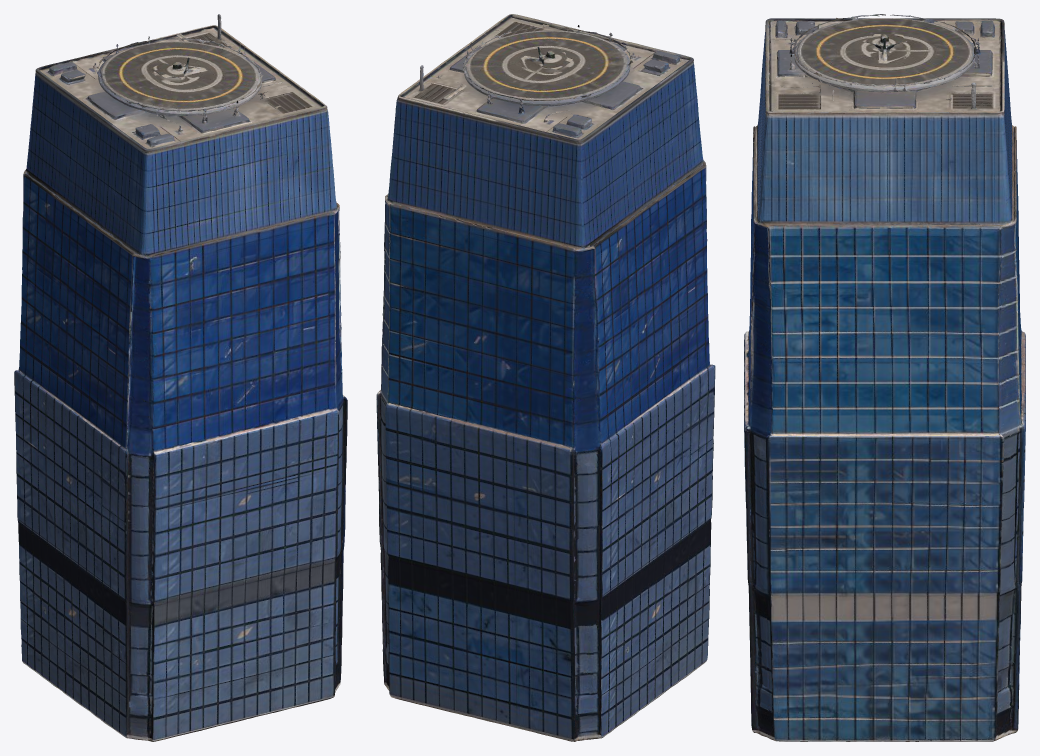
File: skyscraper.glb
3 views of the same model, side by side, from view 1: azimuth 30°, elevation 25°; view 2: azimuth 150°, elevation 25°; view 3: azimuth 270°, elevation 25° (orthographic). The views are drawn at different scales.
Visible parts, largest first — view 1: world; view 2: world; view 3: world.
Part boxes in pixels (x1,y1,x2,y2): world: (14, 14, 347, 741); world: (376, 14, 715, 741); world: (744, 14, 1025, 741).
Size of the model in its own units: 0.7525 by 1.99 by 0.782.
Materials: 1 (1 with a texture image).
